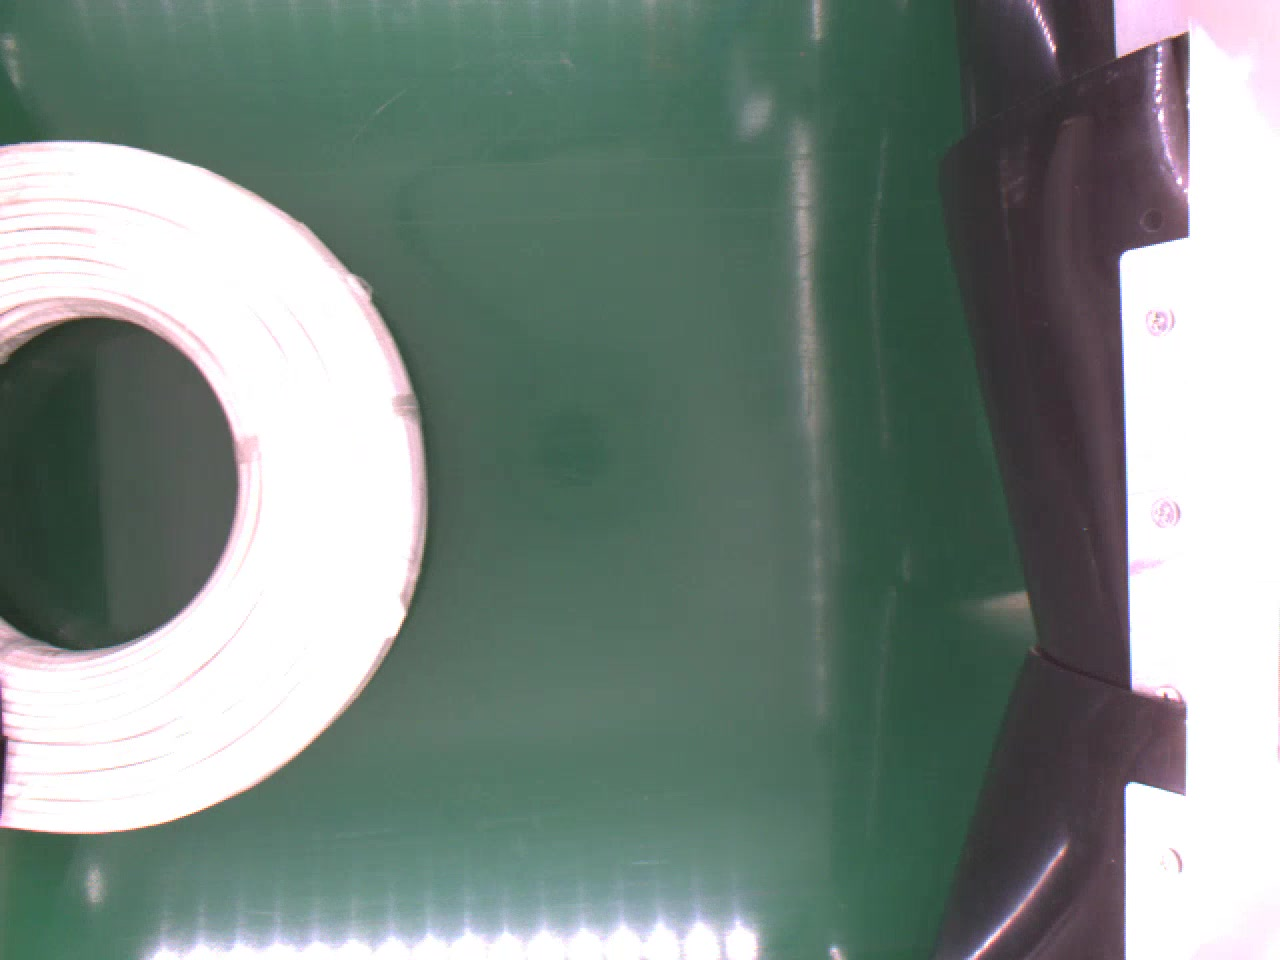white: (0, 137, 428, 838)
